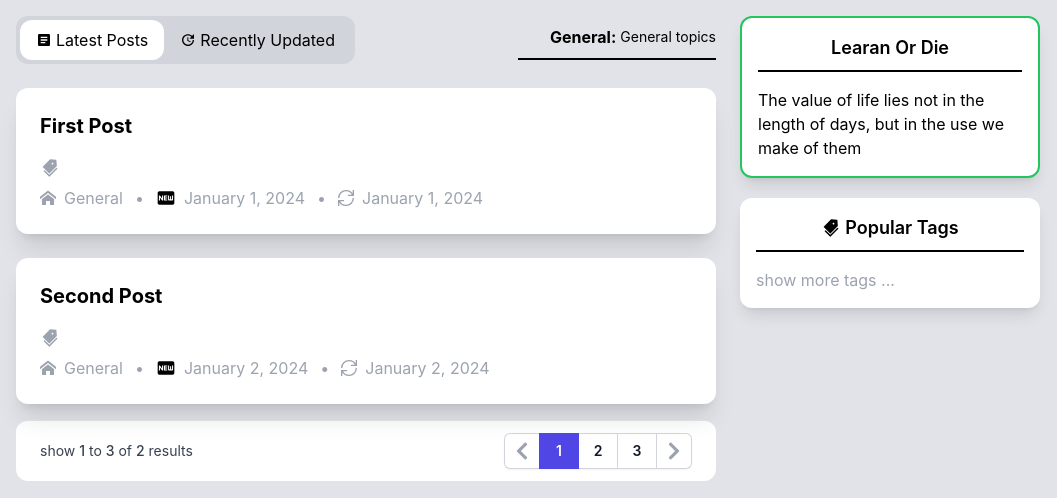
it: Posts page (mocked APIs) › renders post list and toggles current page on click
Expected: the text "First Post" is shown, [40,114,132,138]
Expected: the text "Second Post" is shown, [40,284,162,308]
Click page 2
What coordinates should you click on to do the following:
click the button "2"
I would click on:
 (598, 451)
Its box is [578,433,618,469].
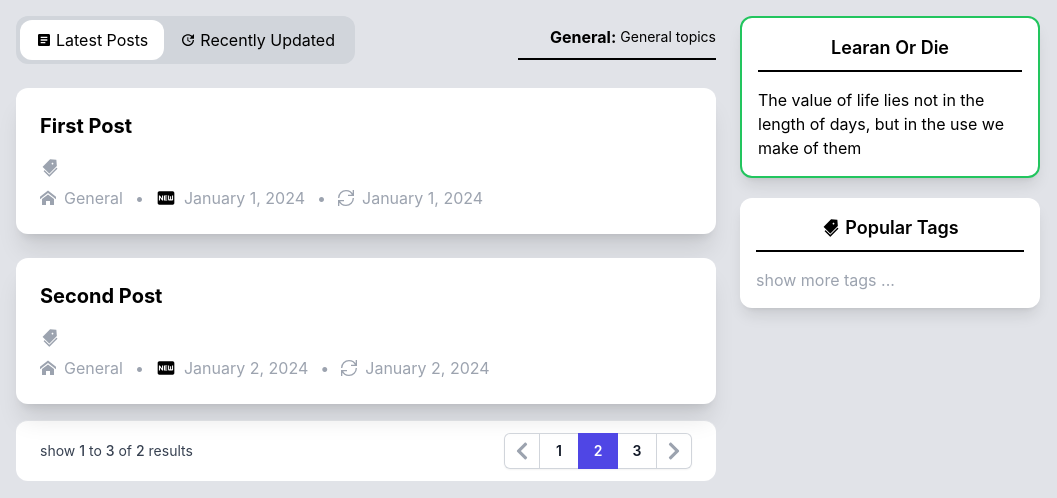
Now the button "2" is disabled, box [578,433,618,469]
Now the button "1" is enabled, box [539,433,579,469]
